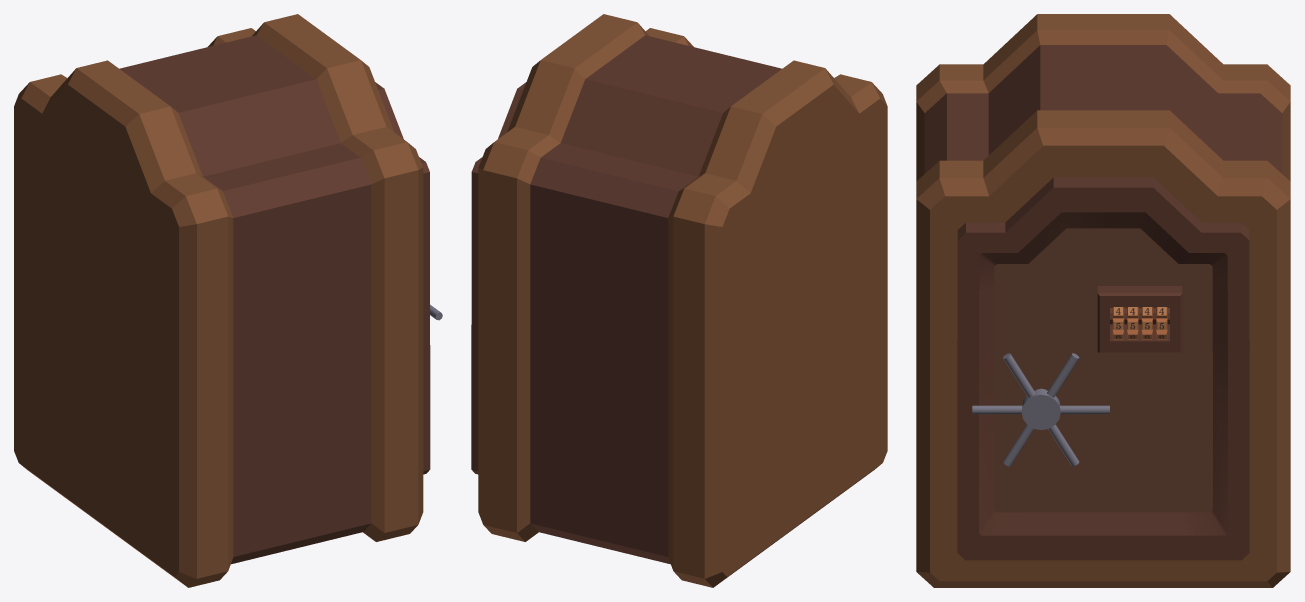
The model's file is Safe (2).fbx.
The picture shows the model from 3 angles, left to right: view 1: azimuth 30°, elevation 25°; view 2: azimuth 150°, elevation 25°; view 3: azimuth 270°, elevation 25°; orthographic projection. The views are drawn at different scales.
Parts seen in each view (by area): view 1: Safe_Body, Safe_Door; view 2: Safe_Body, Safe_Door; view 3: Safe_Door, Safe_Body, Safe_Knob.
Part boxes in pixels (bbox=[...]): Safe_Body: bbox=[14, 14, 423, 587]; Safe_Door: bbox=[375, 82, 430, 474]; Safe_Body: bbox=[478, 14, 887, 587]; Safe_Door: bbox=[471, 82, 526, 474]; Safe_Door: bbox=[957, 177, 1249, 560]; Safe_Body: bbox=[916, 14, 1290, 587]; Safe_Knob: bbox=[972, 353, 1109, 466].
Size of the model in its own units: 137 by 201 by 148.
Materials: 5 (1 with a texture image).
